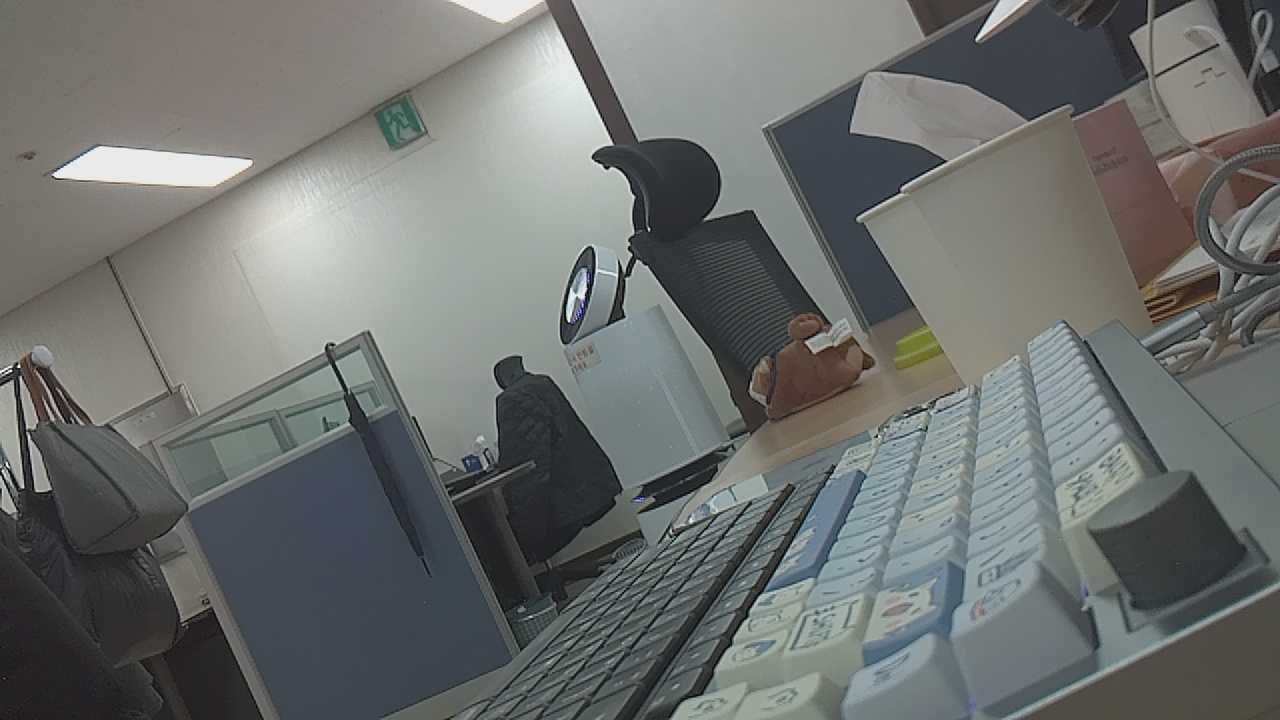cuteDog: (731, 304, 894, 430)
